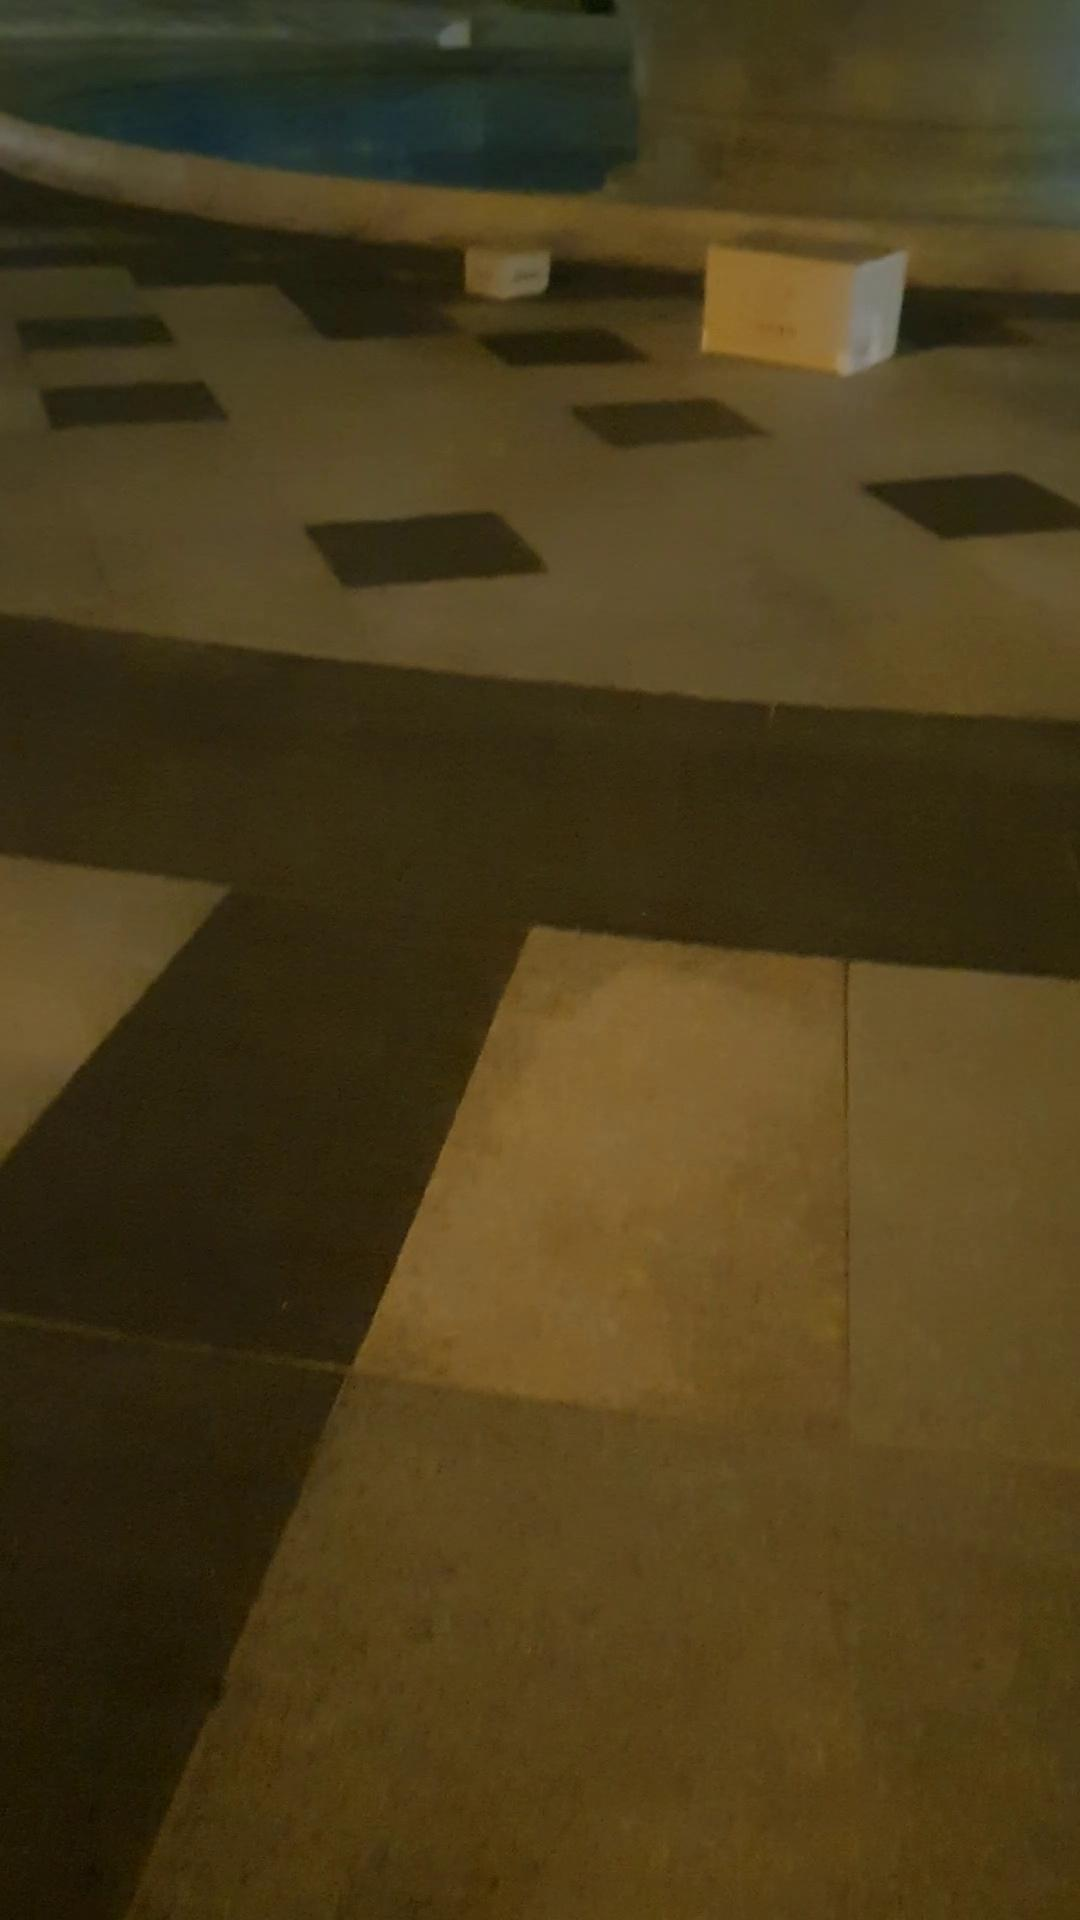Box: (688, 223, 934, 390), (462, 235, 555, 309)
